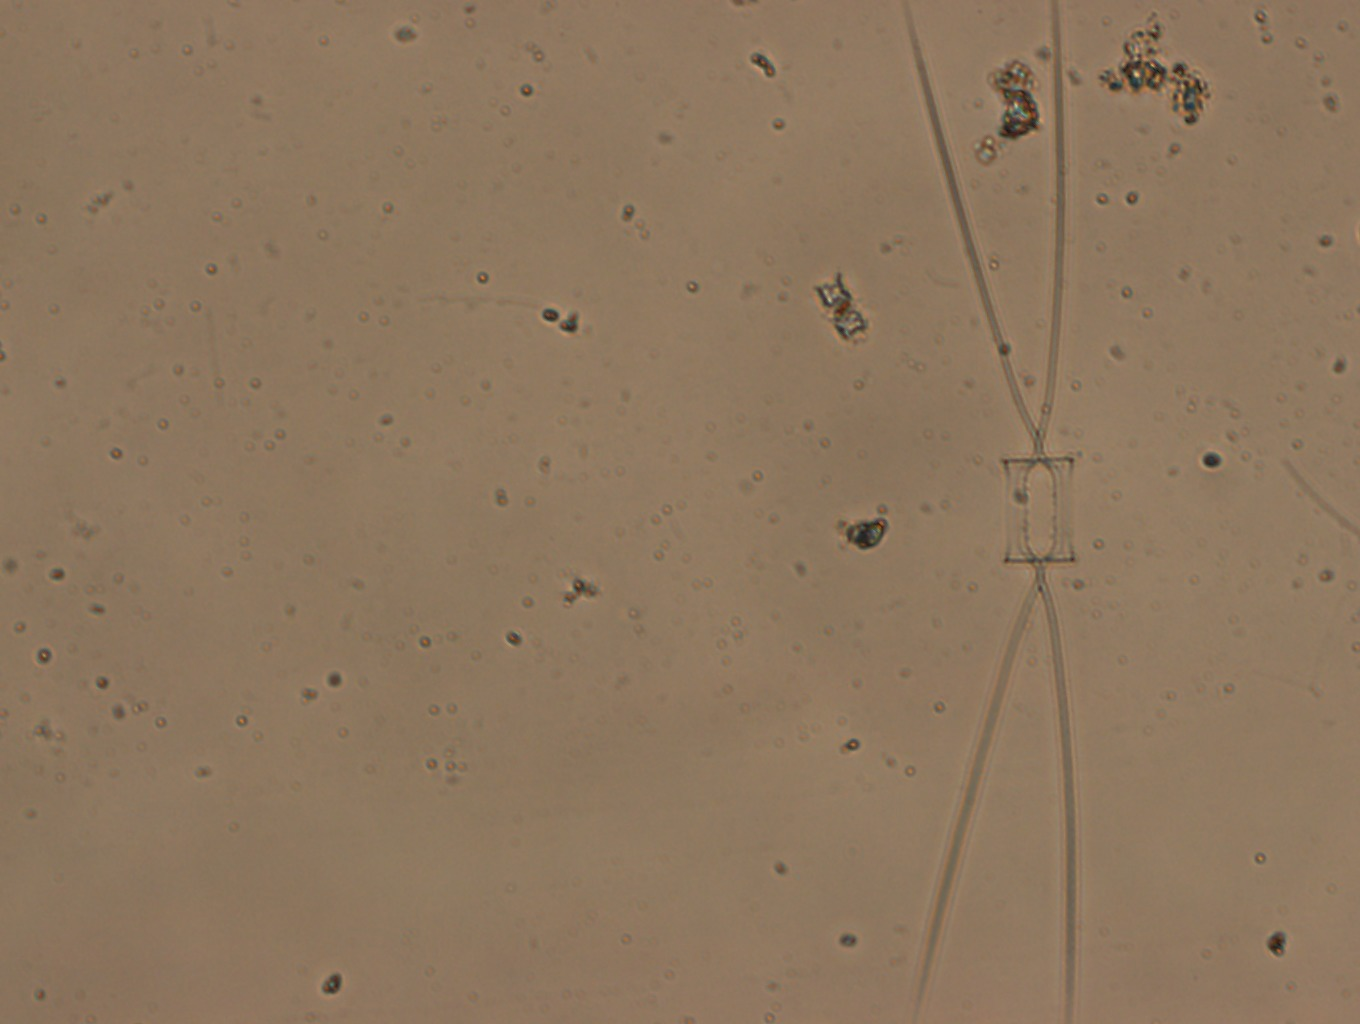chaetoceros: (900, 1, 1077, 1024)
